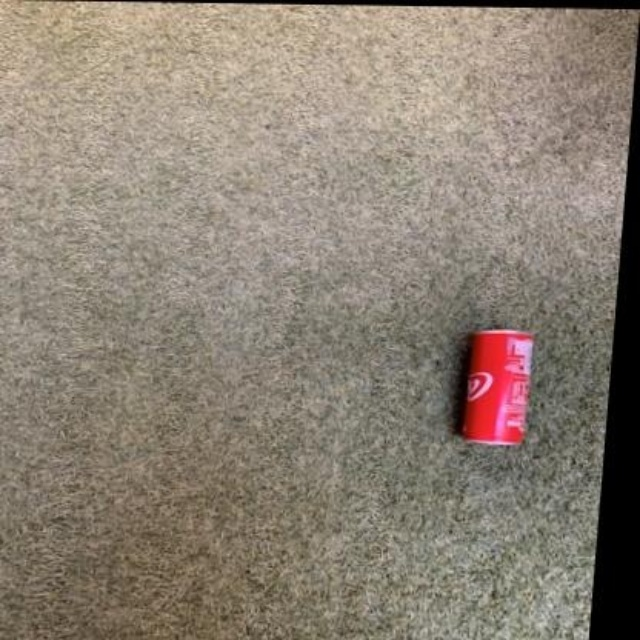trash: (463, 329, 532, 443)
